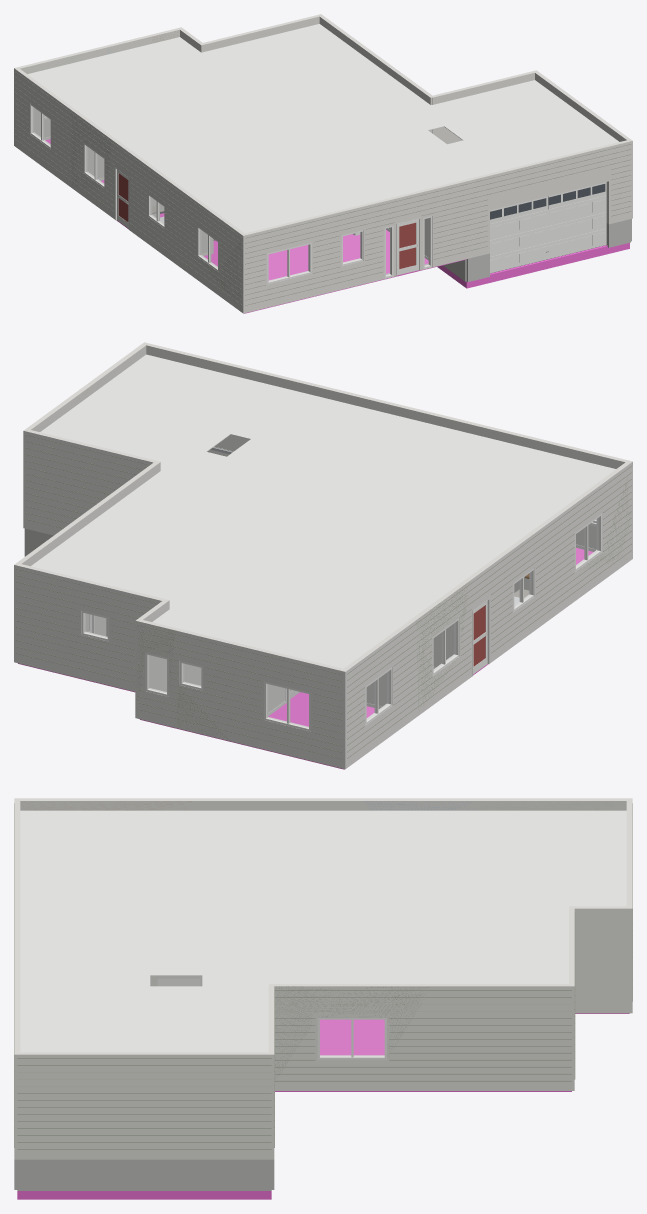
The model's file is house_floor1.glb.
The picture shows the model from 3 angles, top to bottom: view 1: azimuth 30°, elevation 25°; view 2: azimuth 150°, elevation 25°; view 3: azimuth 270°, elevation 25°; orthographic projection. The views are drawn at different scales.
Visible parts, largest first — view 1: ceil_1, col_floor1, trim_siding, door_garage_driveway_s1, door_garage_driveway_s2, door_garage_driveway_s3, door_garage_driveway_s4, win_living_1, room_living, wall_1_main, door_foyer_outside, win_living_2 (+9 smaller); view 2: ceil_1, col_floor1, trim_siding, wall_1_main, win_bed2_7, win_bed2_6, win_bed3_5, win_living_3, door_kitchen_outside, win_hall_9, win_master_bath_11, room_bed2_e (+1 smaller); view 3: ceil_1, col_floor1, trim_siding, curb_garage_ext, wall_1_main, win_master_10, room_master.
Part boxes in pixels (x1,y1,x2,y2): ceil_1: (27, 24, 618, 233); col_floor1: (14, 14, 632, 313); trim_siding: (15, 72, 630, 305); door_garage_driveway_s1: (490, 228, 606, 273); door_garage_driveway_s2: (490, 212, 606, 256); door_garage_driveway_s3: (490, 195, 606, 240); door_garage_driveway_s4: (490, 182, 606, 223); win_living_1: (267, 242, 311, 284); room_living: (204, 245, 350, 280); wall_1_main: (23, 31, 626, 311); door_foyer_outside: (397, 219, 418, 275); win_living_2: (341, 230, 363, 265); ceil_1: (31, 354, 615, 668); col_floor1: (14, 342, 632, 769); trim_siding: (16, 435, 631, 759); wall_1_main: (33, 346, 632, 740); win_bed2_7: (264, 681, 310, 731); win_bed2_6: (365, 667, 392, 724); win_bed3_5: (432, 618, 459, 675); win_living_3: (575, 513, 601, 571); door_kitchen_outside: (473, 600, 487, 673); win_hall_9: (145, 652, 168, 696); win_master_bath_11: (81, 610, 109, 641); room_bed2_e: (268, 692, 308, 722); ceil_1: (20, 810, 626, 1052); col_floor1: (14, 798, 632, 1199); trim_siding: (14, 803, 632, 1149); curb_garage_ext: (17, 1159, 271, 1190); wall_1_main: (20, 801, 625, 1081); win_master_10: (317, 1018, 386, 1059); room_master: (320, 1019, 384, 1055).
Bounding box in the file's own units: 16.03 × 4.25 × 16.33.
Materials: 46 (6 with a texture image).
